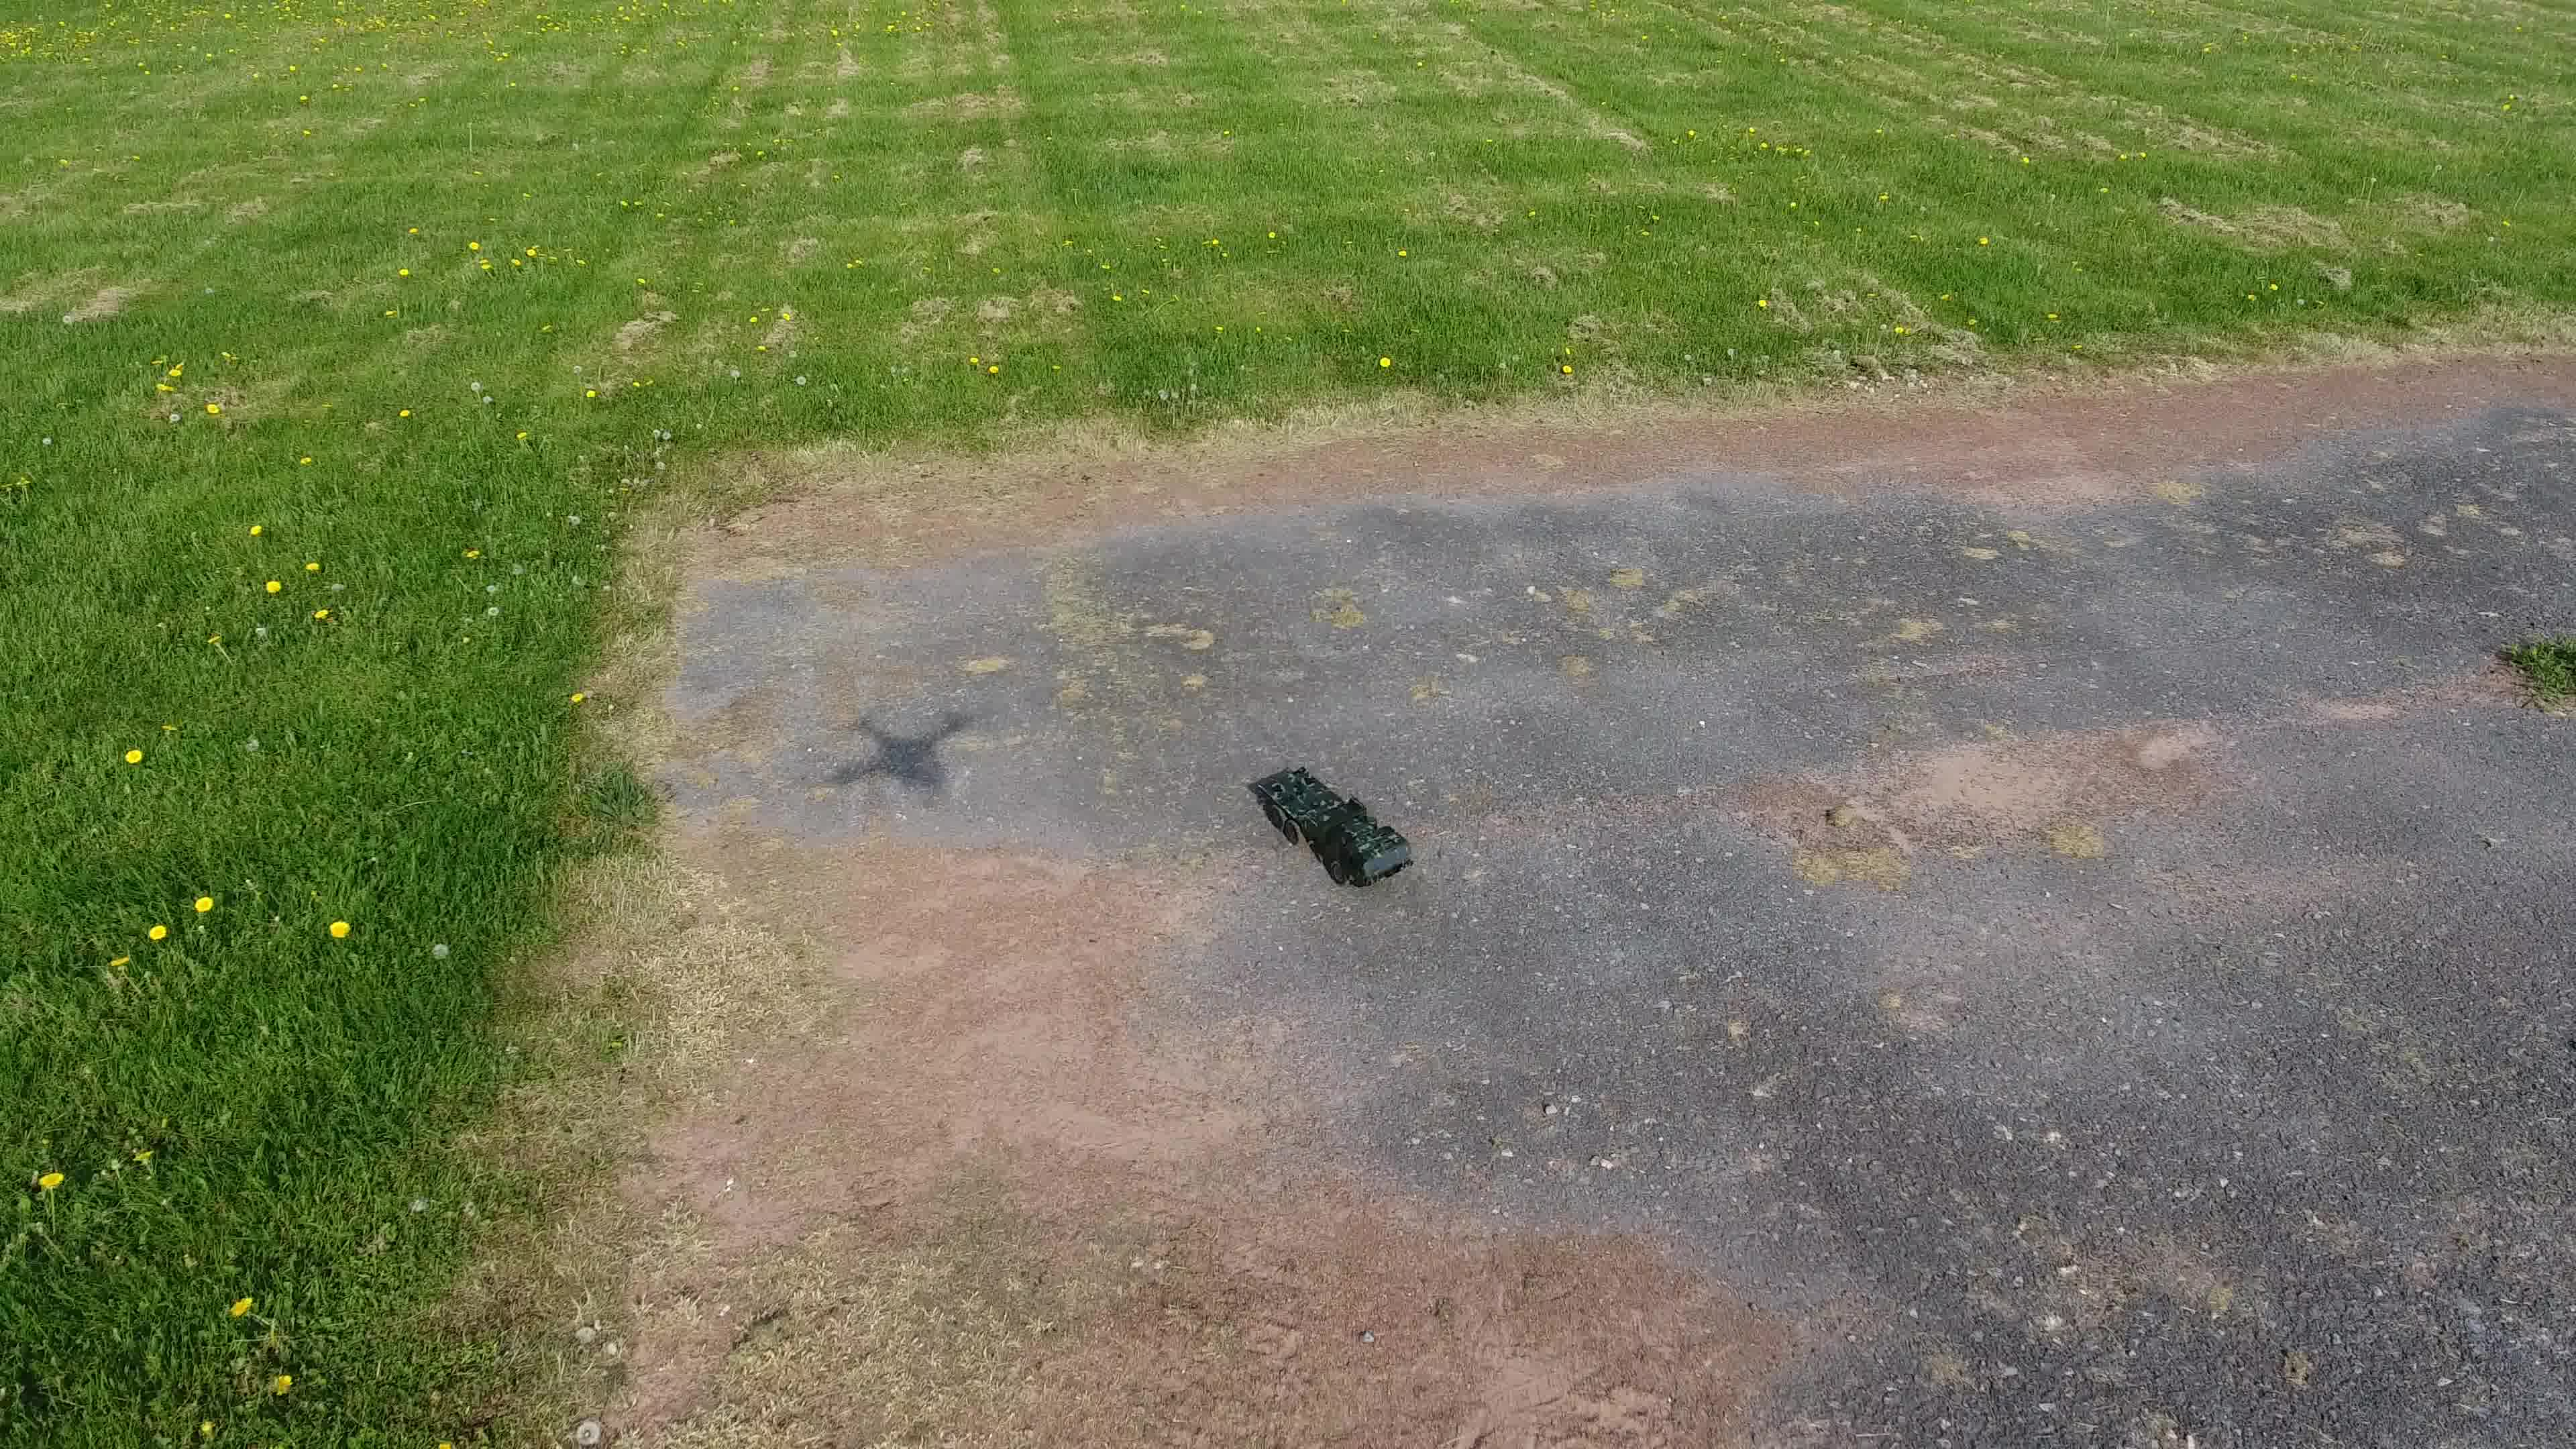transporter9_camo: (1253, 761, 1417, 893)
